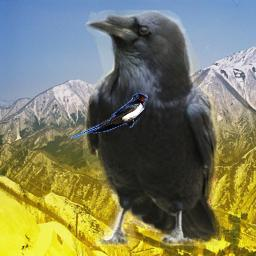Crow: (83, 10, 221, 246)
Swallow: (70, 93, 148, 139)
